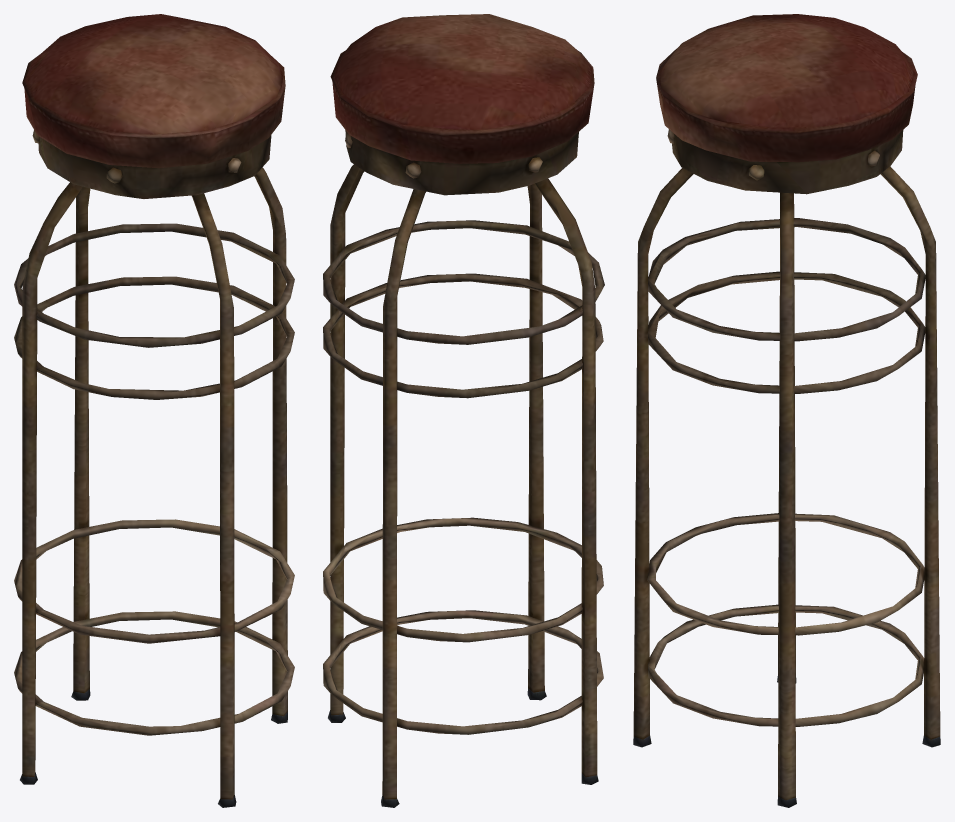
Rendered from metal_stool_01.glb.
3 renders of one model, left to right at view 1: azimuth 30°, elevation 25°; view 2: azimuth 150°, elevation 25°; view 3: azimuth 270°, elevation 25°, orthographic.
Parts seen in each view (by area): view 1: metal_stool_01; view 2: metal_stool_01; view 3: metal_stool_01.
Part boxes in pixels (x1,y1,x2,y2): metal_stool_01: (14, 14, 294, 807); metal_stool_01: (323, 14, 604, 807); metal_stool_01: (633, 14, 940, 807).
Size of the model in its own units: 0.3513 by 0.882 by 0.3529.
Materials: 1 (1 with a texture image).
